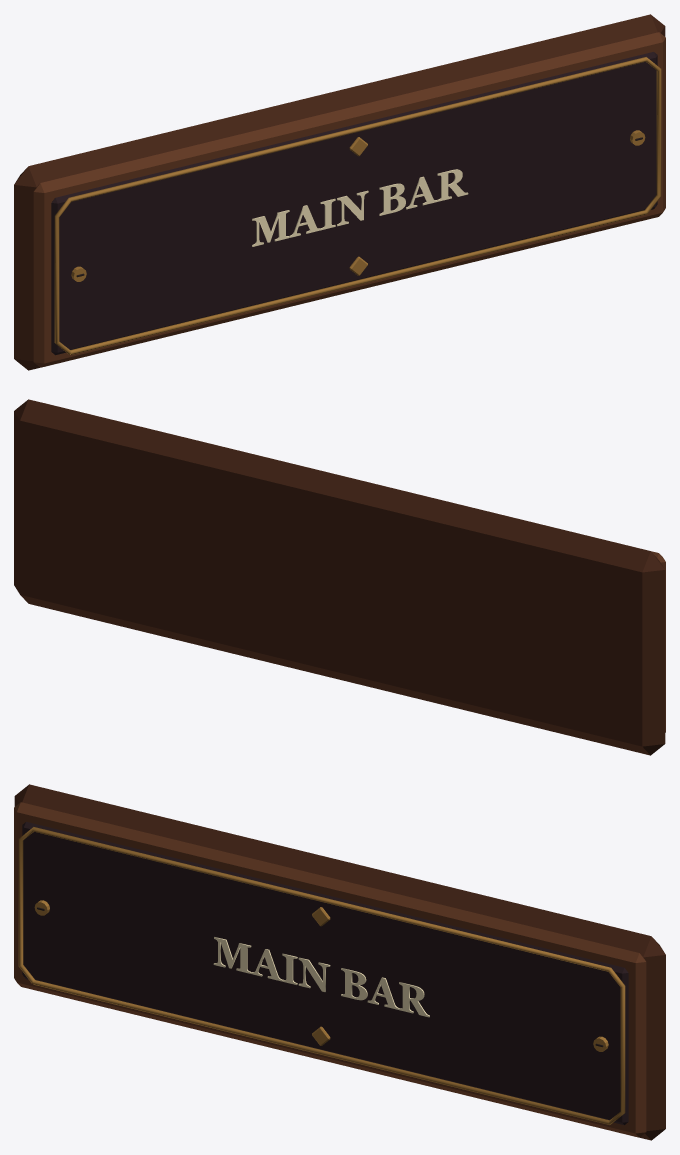
Rendered from BarRoomSign.glb.
3 renders of one model, top to bottom at view 1: azimuth 30°, elevation 25°; view 2: azimuth 150°, elevation 25°; view 3: azimuth 330°, elevation 25°, orthographic.
Parts seen in each view (by area): view 1: DarkEnamelInset.001, RaisedOakBorder.001, CarvedOakPlaque.001, BrassOutline.001, IvorySerifLettering.001; view 2: CarvedOakPlaque.001; view 3: DarkEnamelInset.001, RaisedOakBorder.001, CarvedOakPlaque.001, BrassOutline.001, IvorySerifLettering.001.
Part boxes in pixels (x1,y1,x2,y2): DarkEnamelInset.001: (51,52,657,355); RaisedOakBorder.001: (33,32,665,367); CarvedOakPlaque.001: (14,14,665,370); BrassOutline.001: (54,57,661,354); IvorySerifLettering.001: (252,169,468,246); CarvedOakPlaque.001: (14,399,665,755); DarkEnamelInset.001: (22,822,628,1125); RaisedOakBorder.001: (14,802,646,1137); CarvedOakPlaque.001: (14,784,665,1140); BrassOutline.001: (18,827,625,1124); IvorySerifLettering.001: (213,937,429,1017).
Bounding box in the file's own units: 4.5 × 1.35 × 0.346.
